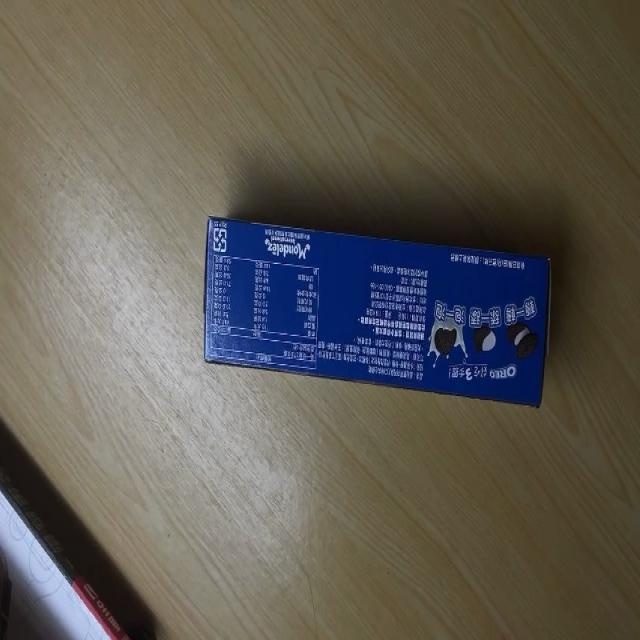Oreo: (201, 216, 554, 410)
